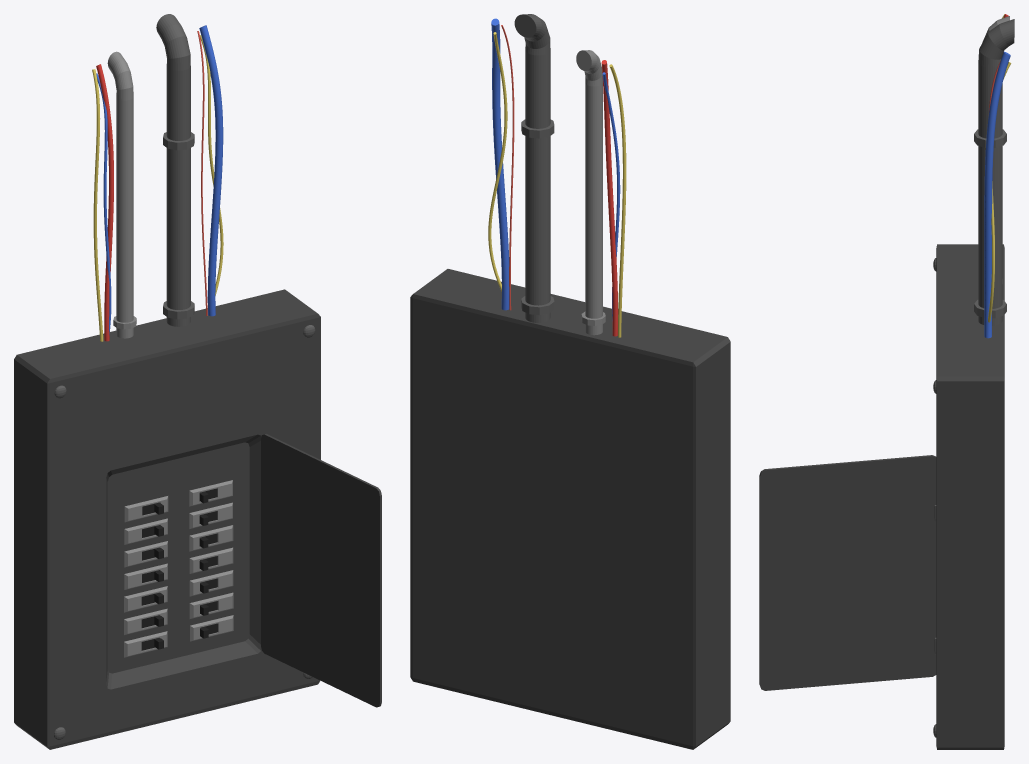
The model's file is BreakerPanel.fbx.
The picture shows the model from 3 angles, left to right: view 1: azimuth 30°, elevation 25°; view 2: azimuth 150°, elevation 25°; view 3: azimuth 270°, elevation 25°; orthographic projection. The views are drawn at different scales.
Parts seen in each view (by area): view 1: BreakerBox, Låge, Pipe.001, KnapperBase, Pipe, Ledning.003, Ledning.001, Ledning, Ledning.002, Ledning.005, Ledning.004; view 2: BreakerBox, Pipe.001, Pipe, Ledning.003, Ledning.001, Ledning, Ledning.005, Ledning.002, Ledning.004; view 3: Låge, BreakerBox, Pipe.001, Ledning.003, Ledning.005.
Part boxes in pixels (left/top/right/bottom): BreakerBox: left=14, top=289, right=320, bottom=749; Låge: left=261, top=434, right=381, bottom=707; Pipe.001: left=156, top=14, right=194, bottom=326; KnapperBase: left=124, top=480, right=233, bottom=657; Pipe: left=107, top=51, right=136, bottom=338; Ledning.003: left=199, top=25, right=223, bottom=316; Ledning.001: left=96, top=64, right=113, bottom=341; Ledning: left=92, top=69, right=103, bottom=341; Ledning.002: left=96, top=73, right=111, bottom=334; Ledning.005: left=200, top=35, right=223, bottom=295; Ledning.004: left=197, top=31, right=207, bottom=315; BreakerBox: left=410, top=269, right=730, bottom=749; Pipe.001: left=514, top=14, right=554, bottom=322; Pipe: left=576, top=50, right=605, bottom=335; Ledning.003: left=491, top=18, right=509, bottom=310; Ledning.001: left=601, top=60, right=618, bottom=336; Ledning: left=609, top=64, right=626, bottom=337; Ledning.005: left=488, top=32, right=507, bottom=291; Ledning.002: left=602, top=72, right=620, bottom=320; Ledning.004: left=501, top=25, right=514, bottom=310; Låge: left=759, top=455, right=936, bottom=690; BreakerBox: left=936, top=244, right=1004, bottom=749; Pipe.001: left=974, top=19, right=1014, bottom=325; Ledning.003: left=984, top=51, right=1010, bottom=338; Ledning.005: left=988, top=62, right=1011, bottom=322.
Bounding box in the file's own units: 239 × 558 × 191.
